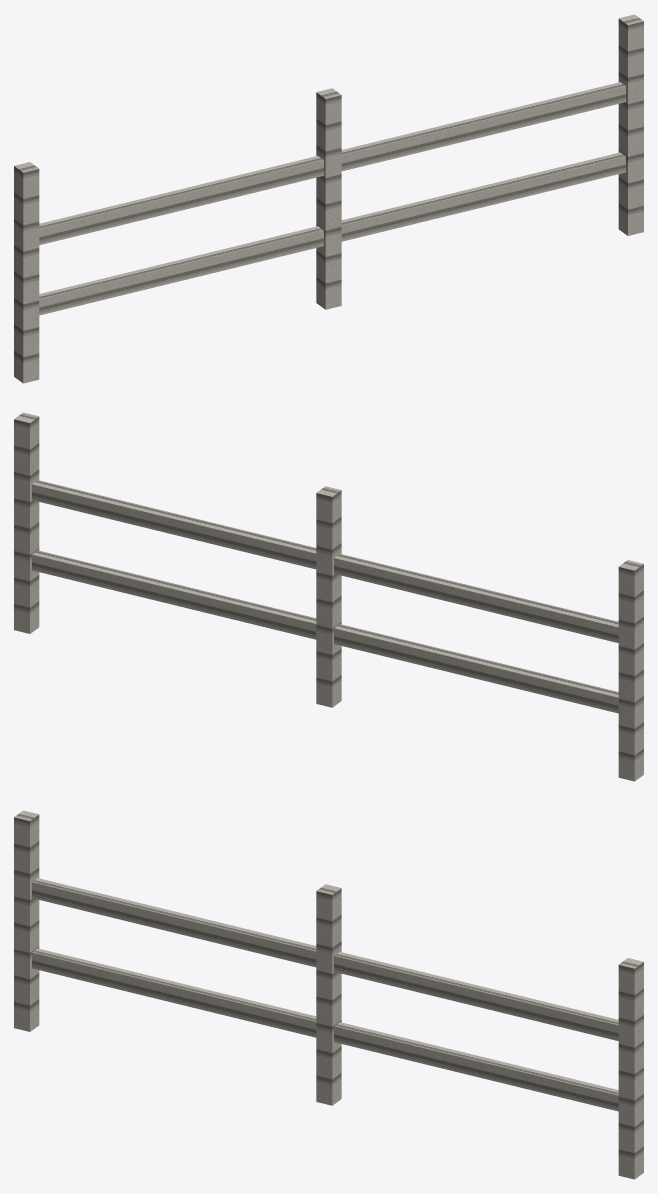
File: fence_ornamental_aluminum.glb
3 views of the same model, one above another, from view 1: azimuth 30°, elevation 25°; view 2: azimuth 150°, elevation 25°; view 3: azimuth 330°, elevation 25° (orthographic).
Parts seen in each view (by area): view 1: fence_ornamental_aluminum-col; view 2: fence_ornamental_aluminum-col; view 3: fence_ornamental_aluminum-col.
Boxes of the visible parts, left/top/right/bottom form: fence_ornamental_aluminum-col: left=14, top=14, right=643, bottom=383; fence_ornamental_aluminum-col: left=14, top=412, right=643, bottom=781; fence_ornamental_aluminum-col: left=14, top=810, right=643, bottom=1179.
Size of the model in its own units: 3.08 by 1 by 0.08.
1 material, 1 textured.
